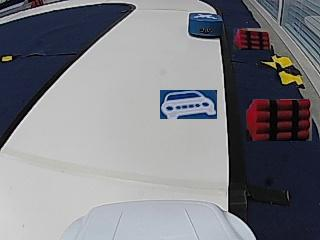prop: (188, 13, 222, 39)
